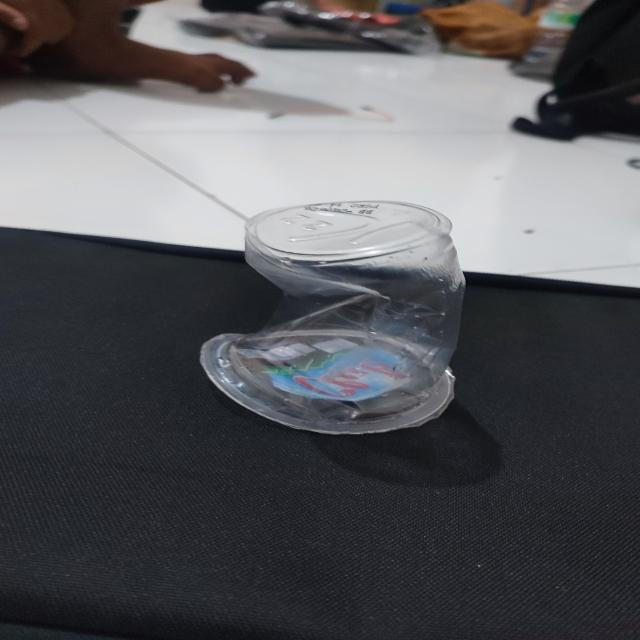air-gelas-rusak: (200, 199, 473, 438)
